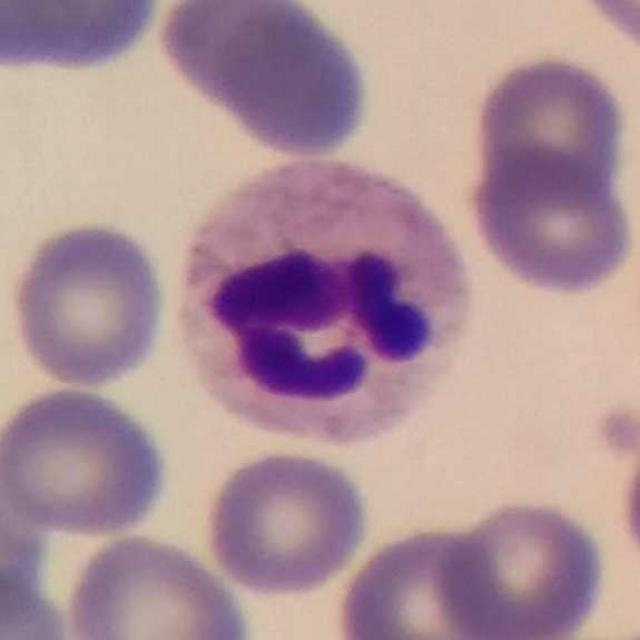Neutrophil: (157, 138, 486, 471)
Platelets: (590, 398, 640, 465)
RBC: (155, 0, 377, 163), (3, 216, 172, 391), (461, 143, 639, 300), (0, 382, 174, 538), (199, 445, 374, 599), (431, 494, 612, 640), (466, 51, 634, 205), (330, 521, 516, 640), (60, 528, 257, 640), (0, 0, 177, 83), (0, 561, 76, 640), (570, 0, 640, 57), (615, 468, 640, 586)
